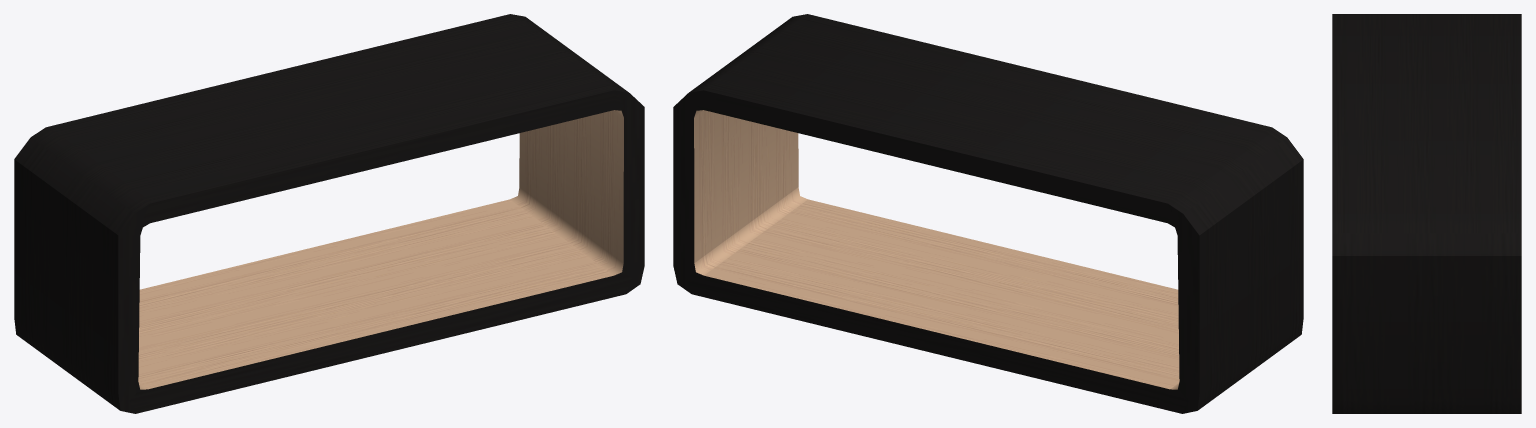
Rendered from Wall_Shelf_01_F.FBX.
3 views of the same model, side by side, from view 1: azimuth 30°, elevation 25°; view 2: azimuth 150°, elevation 25°; view 3: azimuth 270°, elevation 25° (orthographic). The views are drawn at different scales.
Parts seen in each view (by area): view 1: Wall_Shelf; view 2: Wall_Shelf; view 3: Wall_Shelf.
Part boxes in pixels (x1=…): Wall_Shelf: x1=14, y1=14, x2=644, y2=413; Wall_Shelf: x1=673, y1=14, x2=1303, y2=413; Wall_Shelf: x1=1332, y1=14, x2=1521, y2=413.
Size of the model in its own units: 160 by 60.21 by 54.97.
